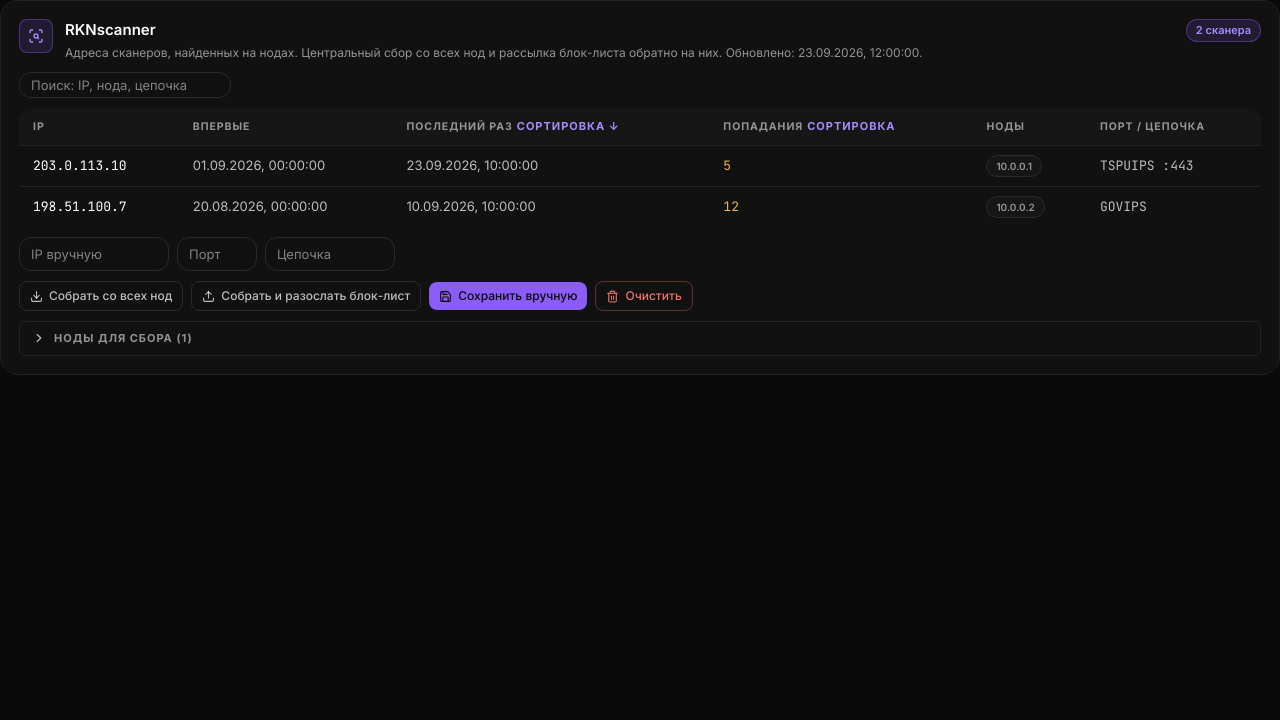
Test case: RknScanners › «Собрать со всех нод» posts sync with apply=false and the saved node creds
Check: the text "203.0.113.10" is shown, box top-left (19, 146), bottom-right (179, 187)
Click the button "Собрать со всех нод" at coordinates (101, 296), box top-left (19, 281), bottom-right (183, 311)
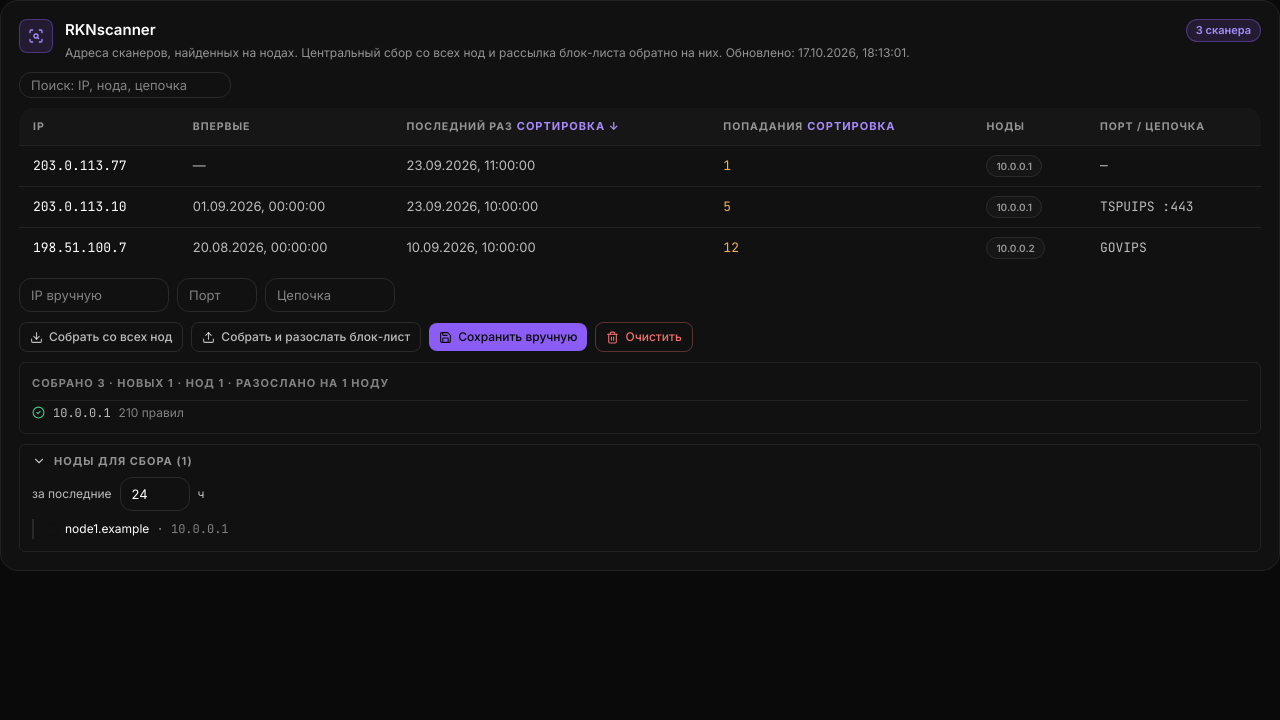
Check: the text "203.0.113.77" is shown, box top-left (19, 146), bottom-right (179, 187)
